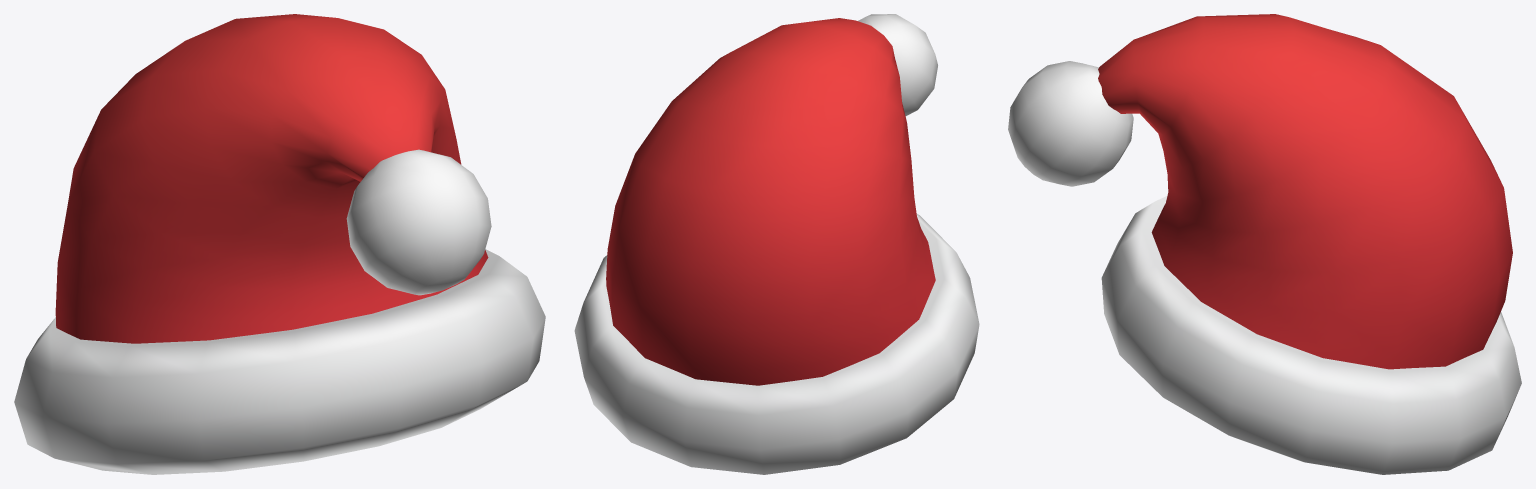
The model's file is Costume_10_02.glb.
The picture shows the model from 3 angles, left to right: view 1: azimuth 30°, elevation 25°; view 2: azimuth 150°, elevation 25°; view 3: azimuth 270°, elevation 25°; orthographic projection. The views are drawn at different scales.
Visible parts, largest first — view 1: Costume_10_02; view 2: Costume_10_02; view 3: Costume_10_02.
Part boxes in pixels (x1=…): Costume_10_02: x1=14, y1=14, x2=545, y2=474; Costume_10_02: x1=574, y1=14, x2=979, y2=474; Costume_10_02: x1=1008, y1=14, x2=1521, y2=474.
Size of the model in its own units: 0.6801 by 0.6312 by 0.7365.
1 material, 1 textured.
